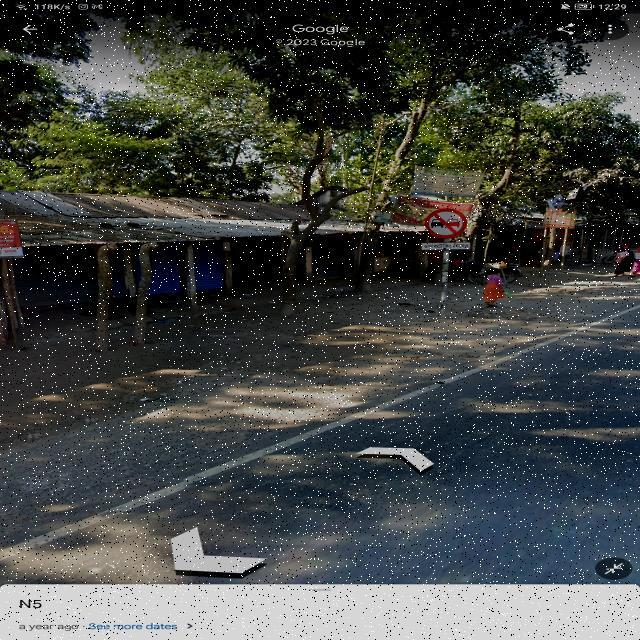Don-t-Overtracking: (402, 199, 481, 290)
